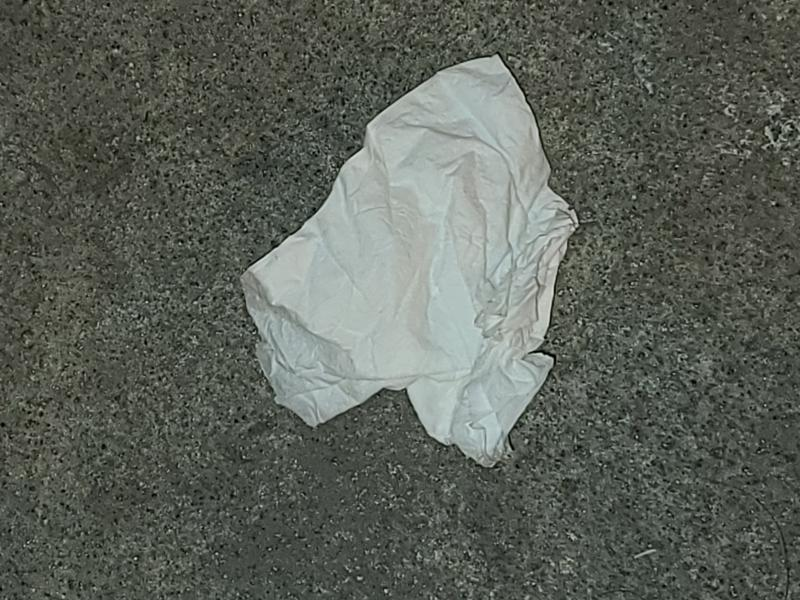papel: (239, 55, 578, 469)
